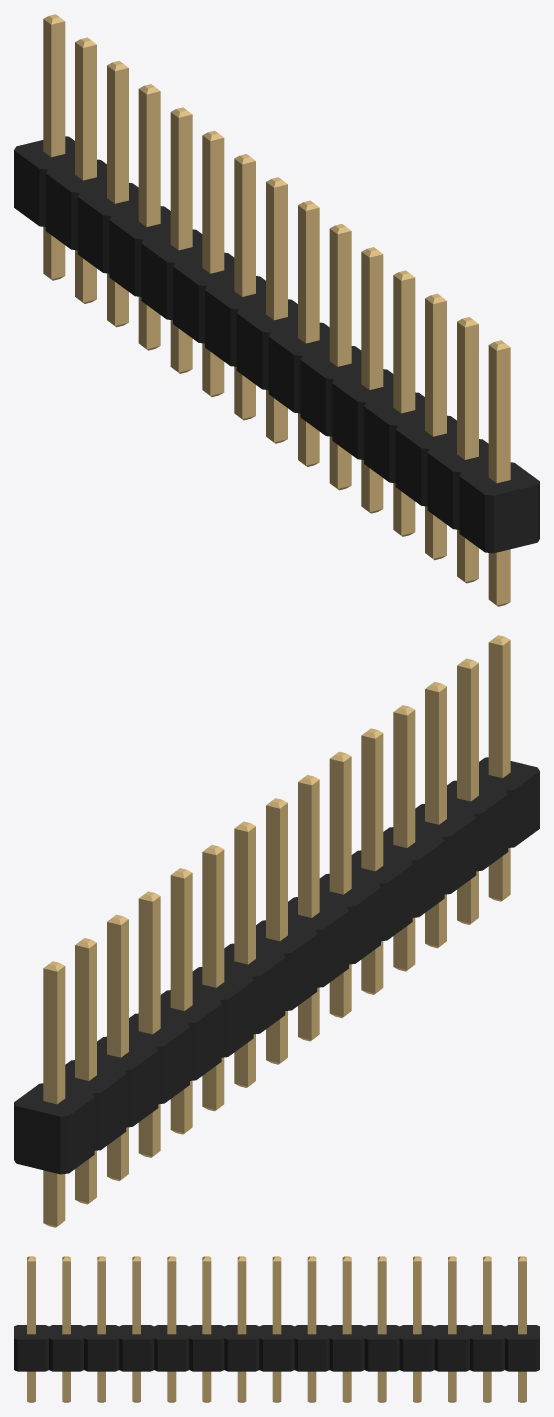
Rendered from pin-header-1x15.glb.
3 renders of one model, top to bottom at view 1: azimuth 30°, elevation 25°; view 2: azimuth 150°, elevation 25°; view 3: azimuth 270°, elevation 25°, orthographic. The views are drawn at different scales.
Parts seen in each view (by area): view 1: PinHeader_1x15_P254mm_Vertical_abb31d, PinHeader_1x15_P254mm_Vertical_c390a4; view 2: PinHeader_1x15_P254mm_Vertical_abb31d, PinHeader_1x15_P254mm_Vertical_c390a4; view 3: PinHeader_1x15_P254mm_Vertical_c390a4, PinHeader_1x15_P254mm_Vertical_abb31d.
Part boxes in pixels (box(x1,y1,x2,y2)): PinHeader_1x15_P254mm_Vertical_abb31d: box(43, 14, 510, 606); PinHeader_1x15_P254mm_Vertical_c390a4: box(14, 136, 539, 553); PinHeader_1x15_P254mm_Vertical_abb31d: box(43, 635, 510, 1227); PinHeader_1x15_P254mm_Vertical_c390a4: box(14, 757, 539, 1174); PinHeader_1x15_P254mm_Vertical_c390a4: box(14, 1325, 539, 1371); PinHeader_1x15_P254mm_Vertical_abb31d: box(27, 1256, 526, 1402).
Size of the model in its own units: 2.54 by 11.54 by 38.1.
